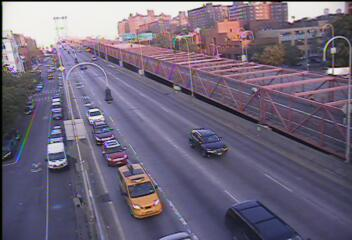neg: (293, 133, 321, 170), (290, 88, 313, 119), (36, 49, 58, 78), (56, 170, 76, 196), (195, 29, 214, 56), (243, 124, 262, 150), (82, 35, 101, 61), (171, 171, 190, 195), (129, 96, 147, 121), (116, 170, 134, 195), (283, 33, 301, 57), (256, 84, 274, 107), (216, 154, 234, 177), (219, 78, 236, 101), (138, 32, 155, 54), (250, 19, 267, 41), (178, 97, 193, 117), (76, 86, 90, 105)
